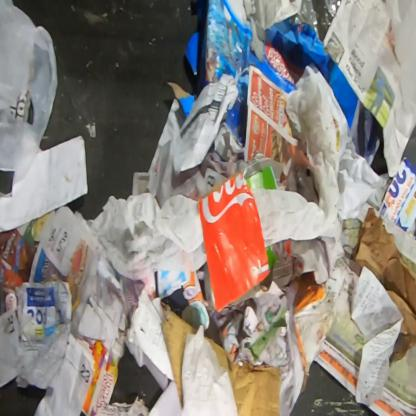cardboard: (166, 0, 359, 147), (198, 171, 270, 312), (378, 156, 415, 238)
soft_plastic: (252, 62, 360, 248), (0, 0, 59, 186), (86, 192, 207, 281), (289, 0, 343, 42)
